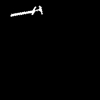double_crochet: (11, 6, 41, 15)
